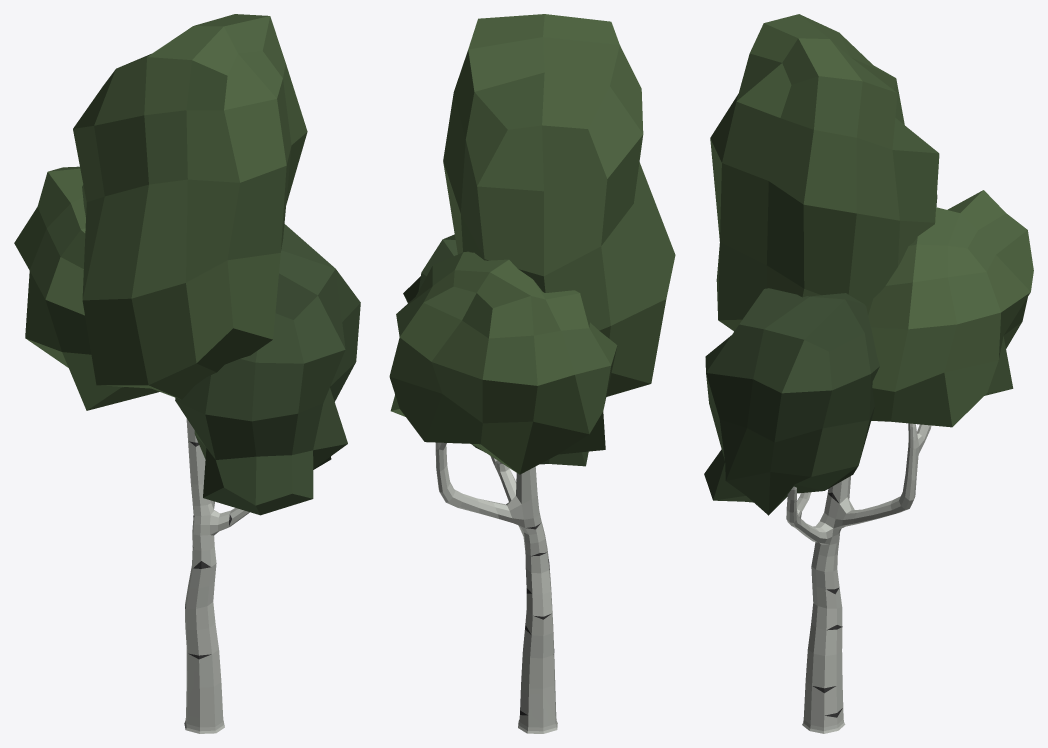
File: BirchTree_3.glb
3 views of the same model, side by side, from view 1: azimuth 30°, elevation 25°; view 2: azimuth 150°, elevation 25°; view 3: azimuth 270°, elevation 25° (orthographic). The views are drawn at different scales.
Parts seen in each view (by area): view 1: Green, DarkGreen, White; view 2: Green, White, DarkGreen; view 3: Green, DarkGreen, White.
Part boxes in pixels (x1=…): Green: x1=14, y1=14, x2=307, y2=410; DarkGreen: x1=175, y1=224, x2=360, y2=515; White: x1=184, y1=418, x2=249, y2=733; Green: x1=389, y1=14, x2=675, y2=474; White: x1=435, y1=442, x2=557, y2=733; DarkGreen: x1=403, y1=234, x2=588, y2=466; Green: x1=710, y1=14, x2=1033, y2=427; DarkGreen: x1=704, y1=288, x2=879, y2=515; White: x1=786, y1=423, x2=931, y2=733.
Bounding box in the file's own units: 1.57 × 4.09 × 1.77.
